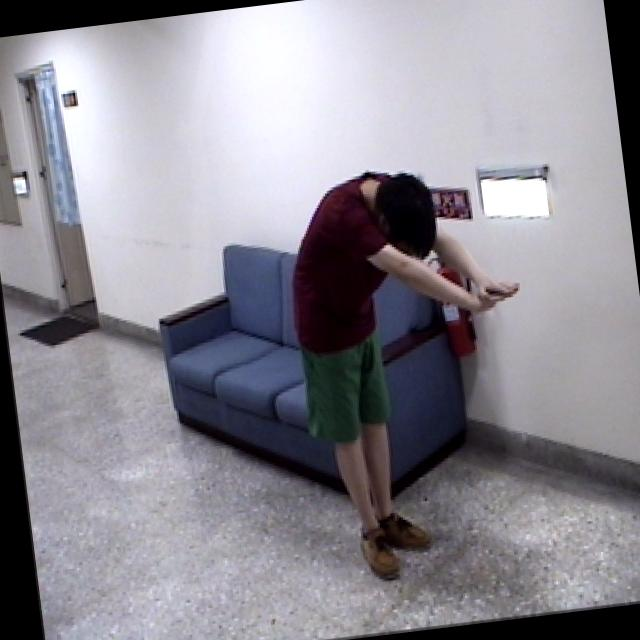bend: (266, 146, 558, 593)
